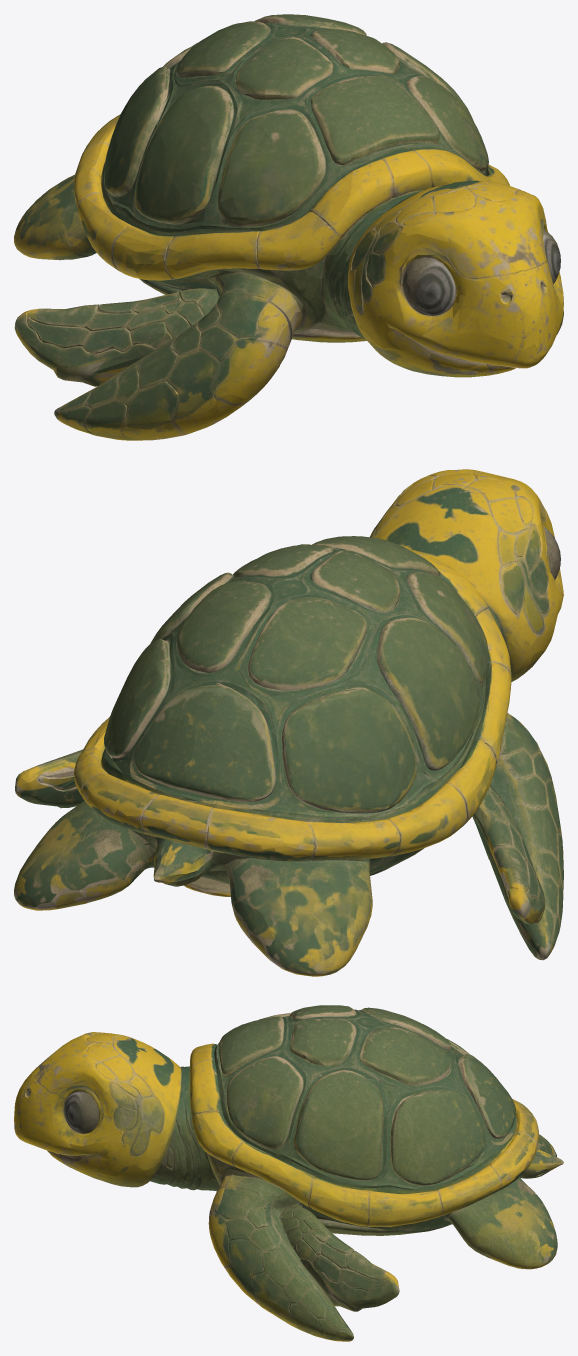
The model's file is tartaruga.glb.
3 renders of one model, top to bottom at view 1: azimuth 30°, elevation 25°; view 2: azimuth 150°, elevation 25°; view 3: azimuth 270°, elevation 25°, orthographic. The views are drawn at different scales.
Size of the model in its own units: 1.49 by 0.938 by 1.9.
Materials: 1 (1 with a texture image).
